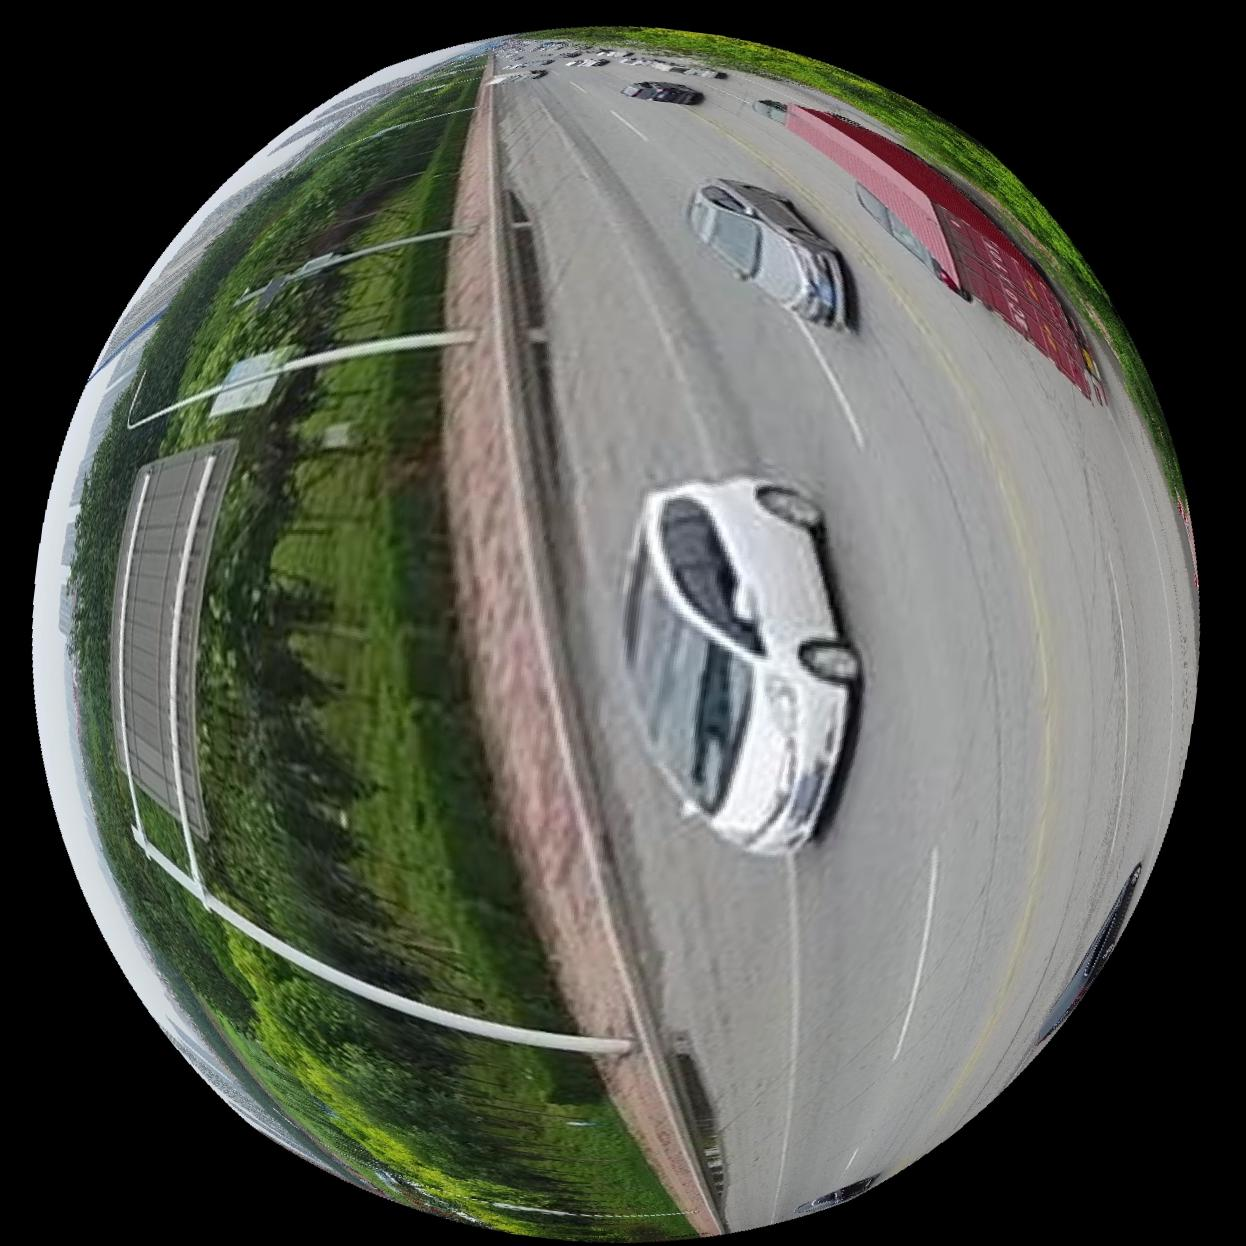cars: (787, 102, 1108, 400), (624, 475, 861, 855), (687, 175, 848, 326), (859, 181, 972, 298), (622, 78, 704, 103), (750, 95, 790, 122)
trees: (34, 46, 693, 1239)
